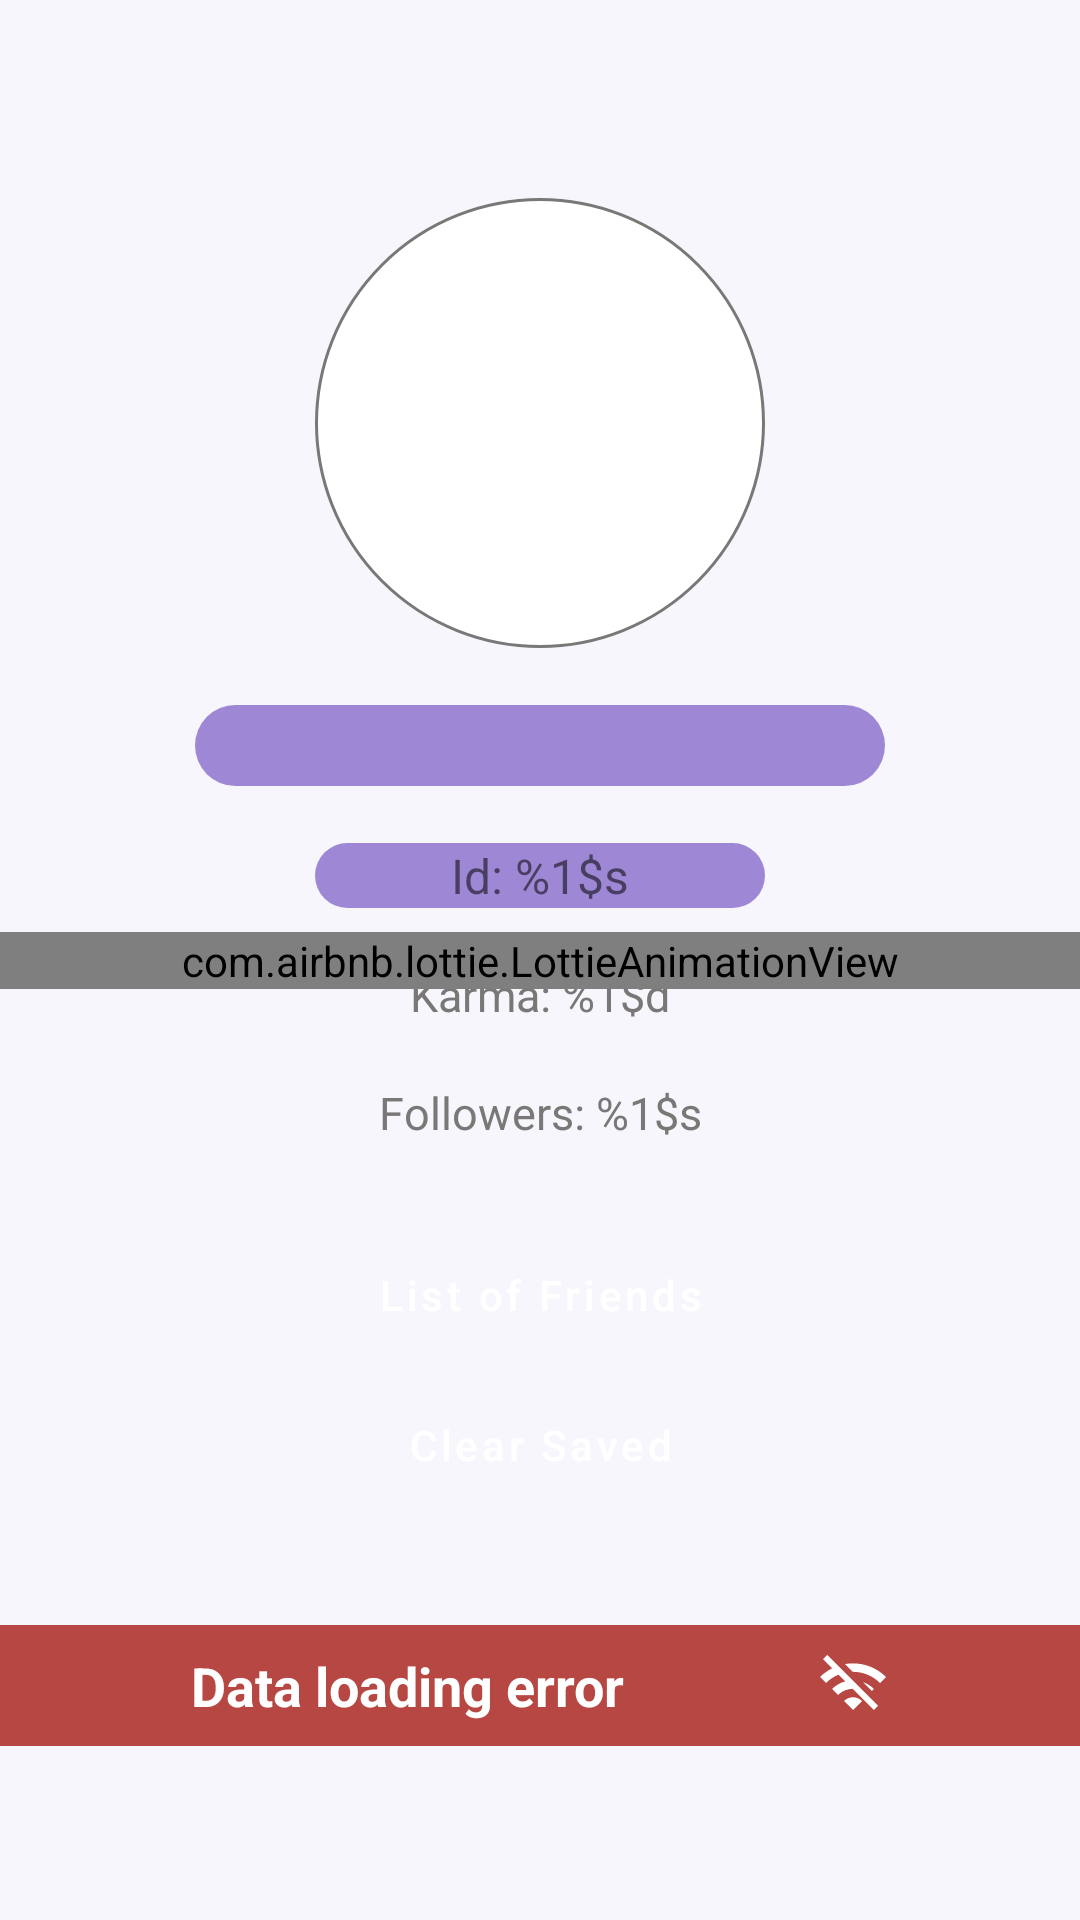

Icons on this 1080 × 1920 Android screen, each with its box as [x1=x1, y1=y1, x2=x2, y2=y2]:
wi-fi img: [x1=820, y1=1655, x2=886, y2=1710]
